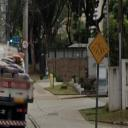speed_limit_40: (22, 40, 28, 49)
